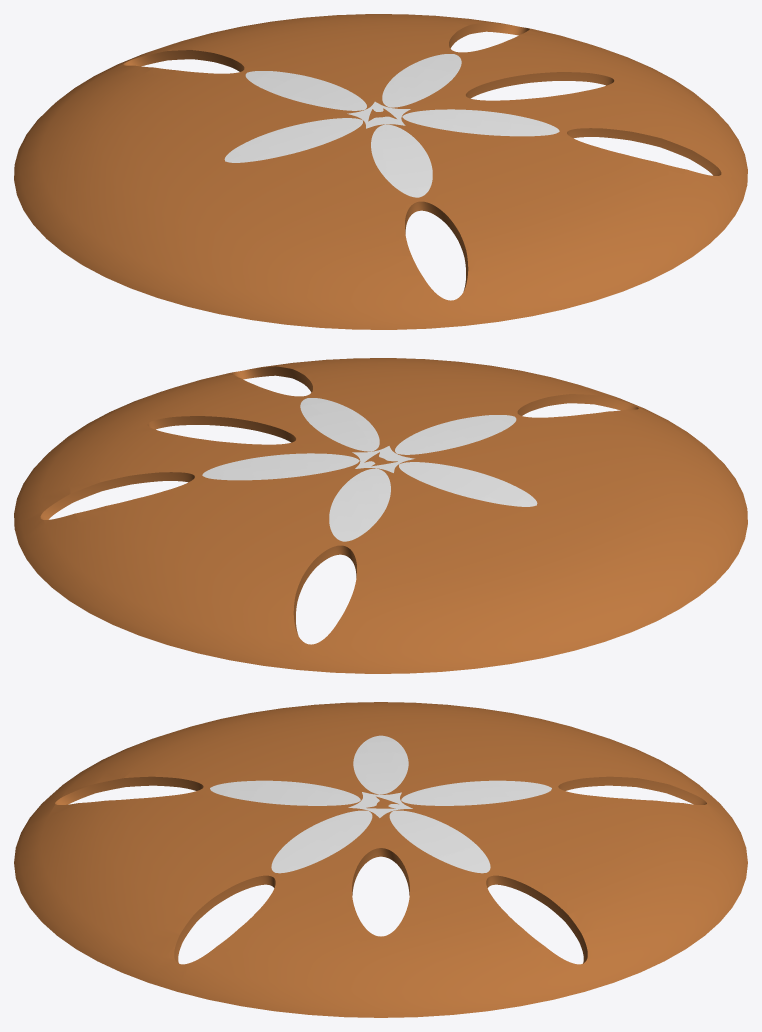
The model's file is BronzeDollar.fbx.
The picture shows the model from 3 angles, top to bottom: view 1: azimuth 30°, elevation 25°; view 2: azimuth 150°, elevation 25°; view 3: azimuth 270°, elevation 25°; orthographic projection.
Visible parts, largest first — view 1: SandDollar.002, Plane.021, Plane.007, Plane.022, Plane.024, Plane.023, Circle.006; view 2: SandDollar.002, Plane.024, Plane.007, Plane.023, Plane.021, Plane.022, Circle.006; view 3: SandDollar.002, Plane.022, Plane.023, Plane.021, Plane.024, Plane.007, Circle.006.
Boxes of the visible parts, box(x1,y1,x2,y2) form: SandDollar.002: box(14, 14, 747, 329); Plane.021: box(371, 124, 432, 197); Plane.007: box(224, 118, 362, 162); Plane.022: box(402, 109, 559, 136); Plane.024: box(245, 71, 366, 110); Plane.023: box(382, 54, 461, 107); Circle.006: box(347, 101, 410, 128); SandDollar.002: box(14, 358, 747, 673); Plane.024: box(329, 468, 390, 541); Plane.007: box(399, 462, 537, 506); Plane.023: box(202, 453, 359, 480); Plane.021: box(395, 415, 516, 454); Plane.022: box(300, 398, 379, 451); Circle.006: box(352, 446, 414, 472); SandDollar.002: box(14, 702, 747, 1017); Plane.022: box(271, 810, 372, 873); Plane.023: box(389, 810, 490, 873); Plane.021: box(210, 780, 360, 805); Plane.024: box(401, 780, 551, 805); Plane.007: box(353, 735, 408, 794); Circle.006: box(348, 792, 412, 817).
Bounding box in the file's own units: 392 × 392 × 34.91.
